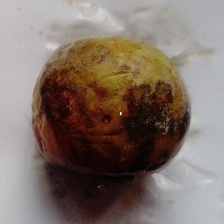guava: (8, 36, 183, 200)
